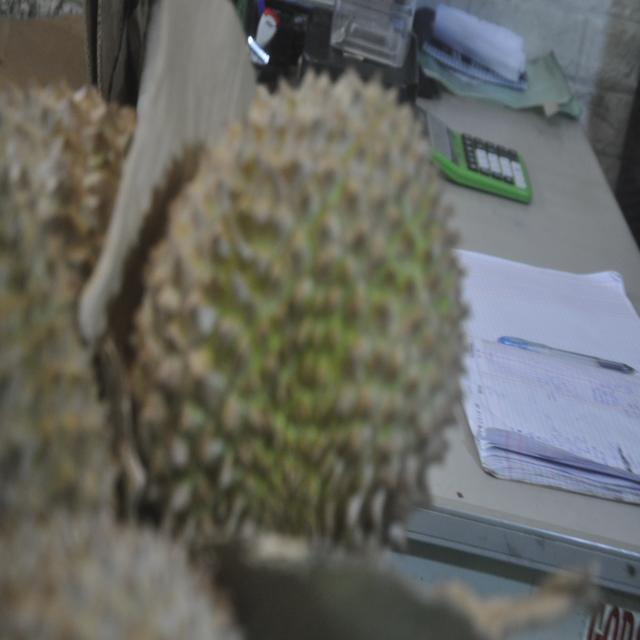mature: (125, 65, 475, 553)
